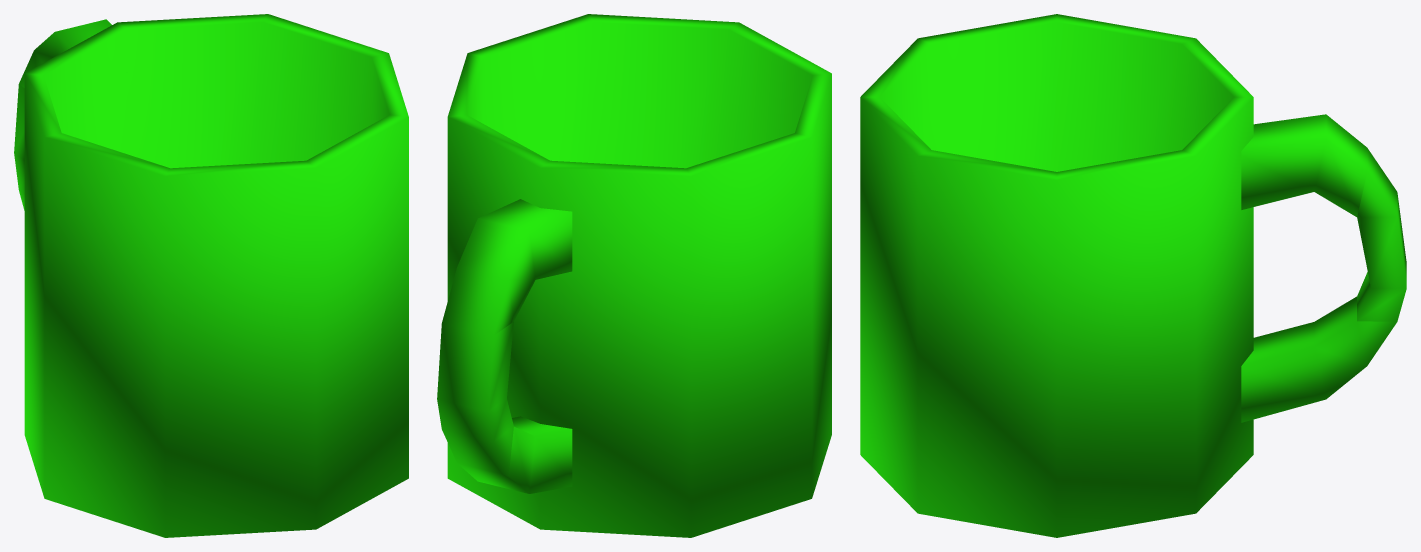
The model's file is Mug.fbx.
The picture shows the model from 3 angles, left to right: view 1: azimuth 30°, elevation 25°; view 2: azimuth 150°, elevation 25°; view 3: azimuth 270°, elevation 25°; orthographic projection.
Parts seen in each view (by area): view 1: Mug, Handle; view 2: Mug, Handle; view 3: Mug, Handle.
Boxes of the visible parts, x1,y1,x2,y2 form: Mug: (24, 14, 408, 537); Handle: (14, 19, 111, 210); Mug: (447, 14, 831, 537); Handle: (437, 199, 572, 493); Mug: (860, 14, 1253, 537); Handle: (1241, 114, 1406, 422).
Bounding box in the file's own units: 20 × 20.06 × 27.78.
